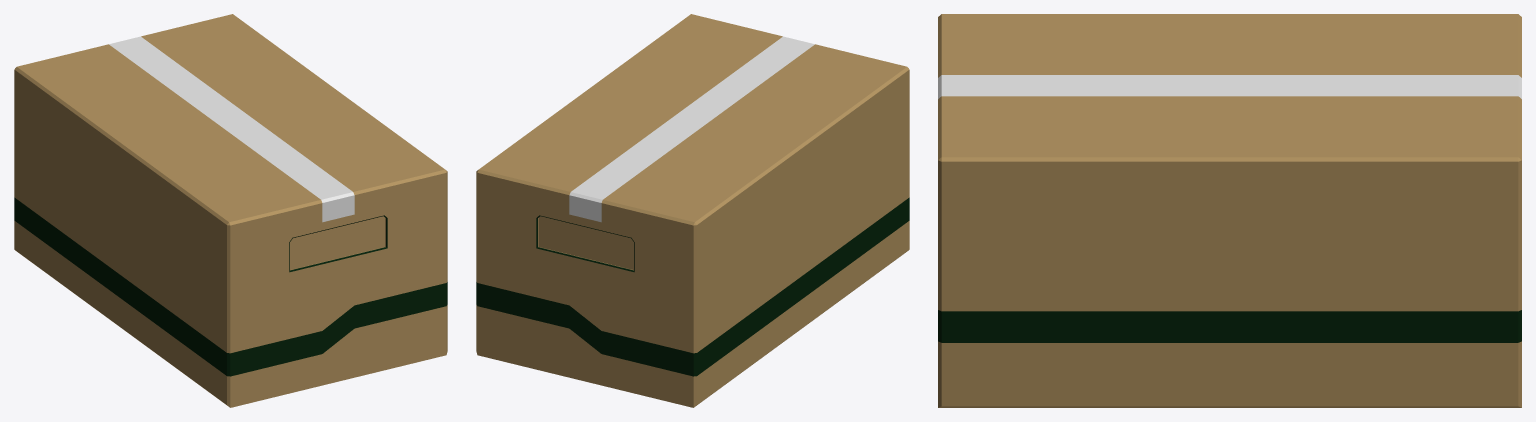
The picture shows the model from 3 angles, left to right: view 1: azimuth 30°, elevation 25°; view 2: azimuth 150°, elevation 25°; view 3: azimuth 270°, elevation 25°; orthographic projection. The views are drawn at different scales.
Visible parts, largest first — view 1: BoxVisual; view 2: BoxVisual; view 3: BoxVisual.
Boxes of the visible parts, left/top/right/bottom form: BoxVisual: left=14, top=14, right=447, bottom=407; BoxVisual: left=476, top=14, right=909, bottom=407; BoxVisual: left=938, top=14, right=1521, bottom=407.
Bounding box in the file's own units: 200 × 160 × 338.
